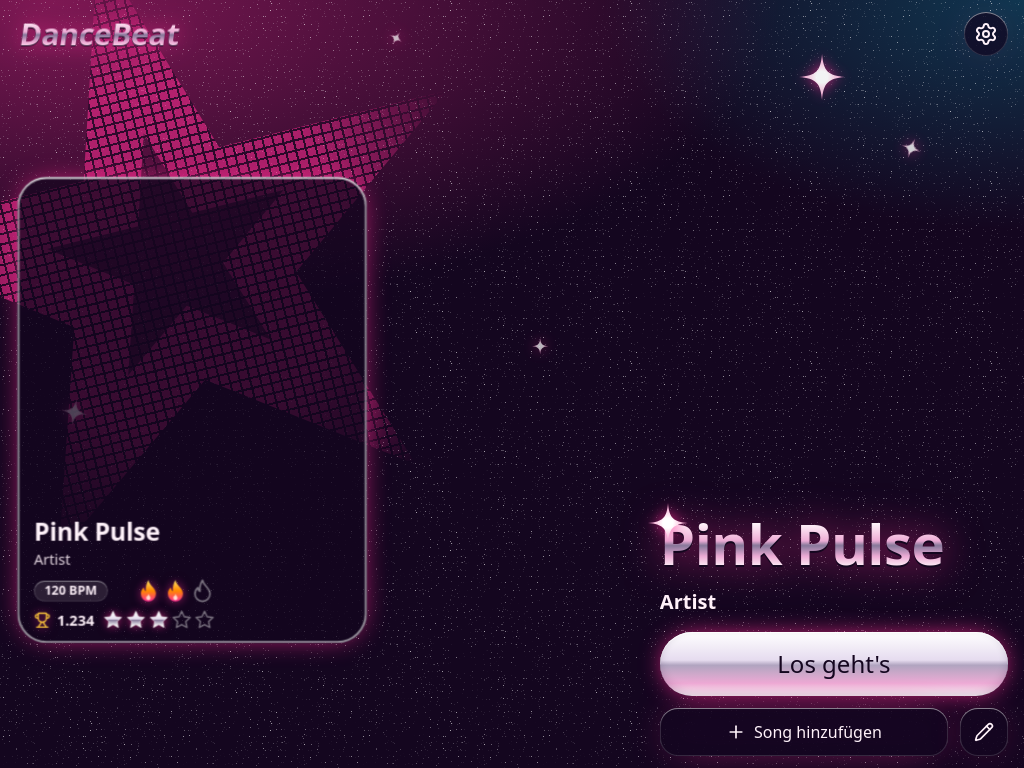
Dance video in the edit dialog (8h-2b-2a) › offers replace and remove when a video is attached
Click the button named "Song bearbeiten": click(984, 732) [960,708,1008,756]
(page scrolled)
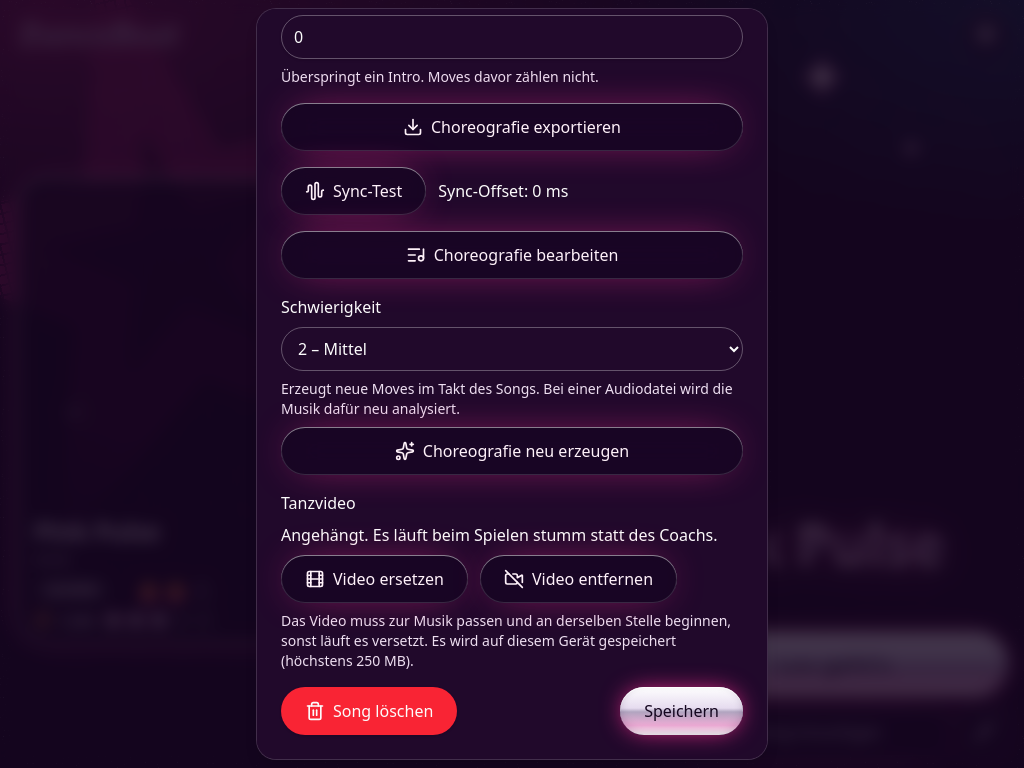
Expected: the text "Angehängt. Es läuft beim Spielen stumm statt des Coachs." is shown, [281,523,743,547]
Expected: the button "Video ersetzen" is shown, [281,555,468,603]
Expected: the button "Video entfernen" is shown, [480,555,677,603]
